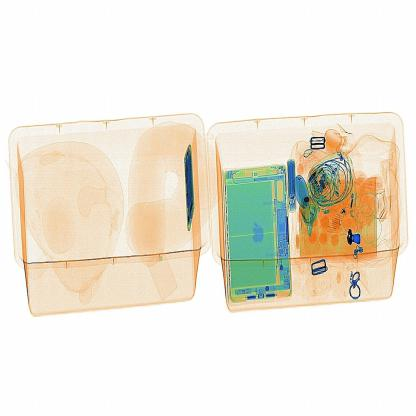wrench: (339, 222, 366, 250)
